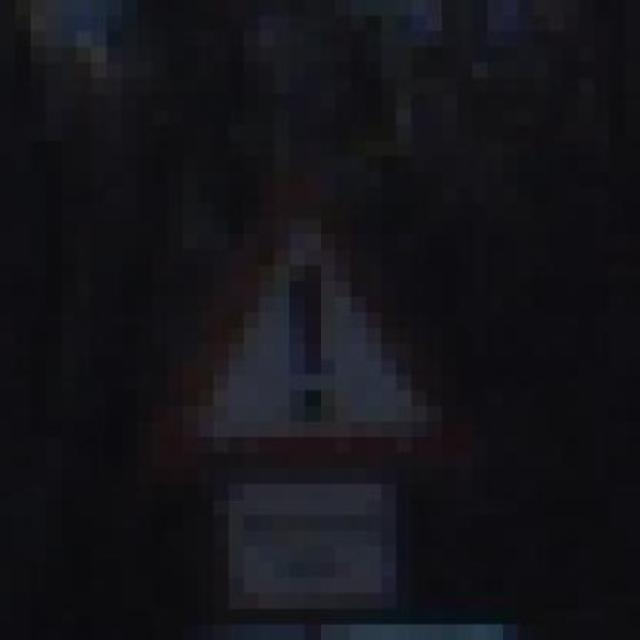Attention Please-: (137, 172, 472, 514)
